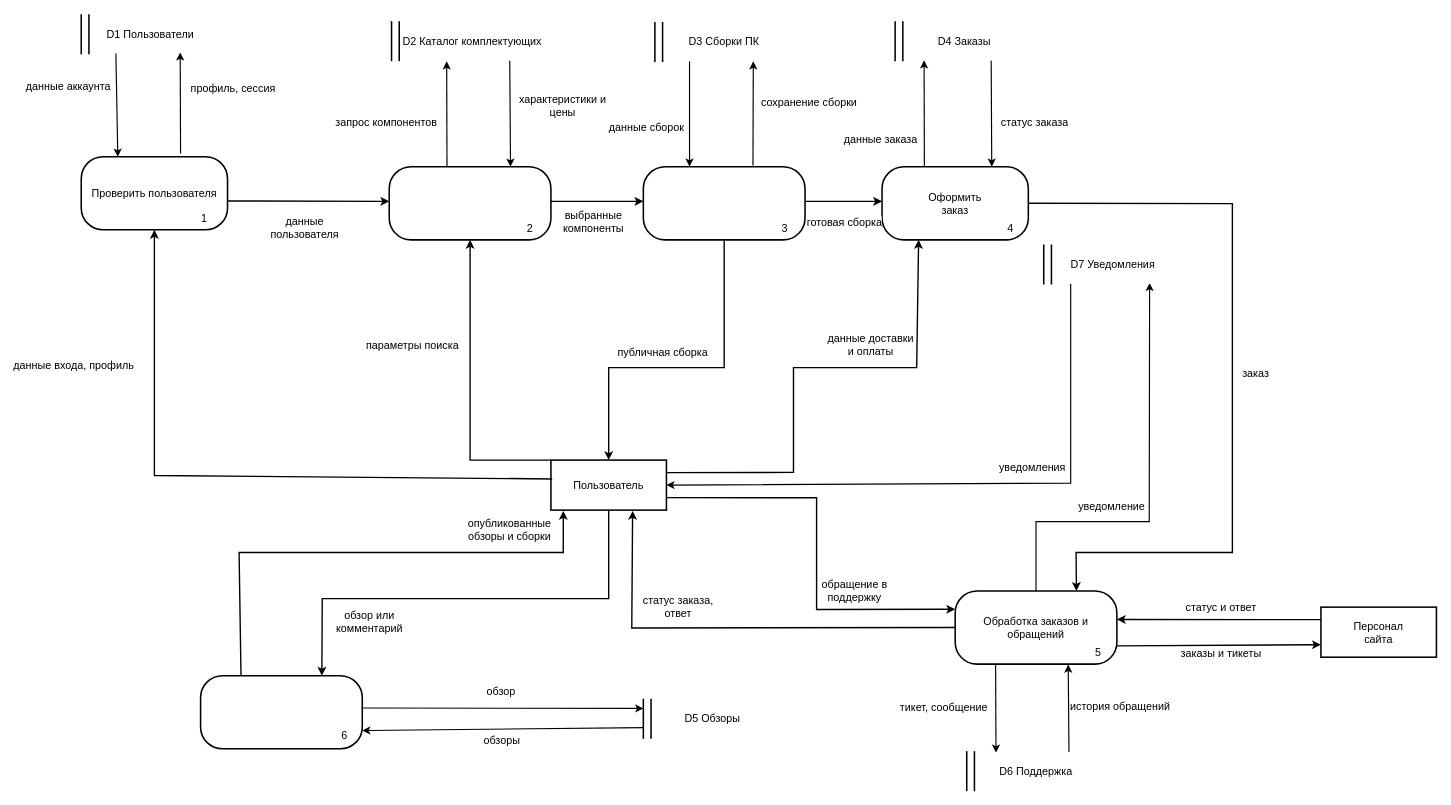
The diagram is 1451 pixels wide and 805 high, and some of its shapes have lost their labels. Here are the shapes that lost their labels. From the top down, the box of each, then its label:
(388, 166, 551, 240): Подобрать комплектующие
(642, 166, 805, 240): Сформировать сборку ПК
(199, 675, 363, 749): Публикация обзоров и сборок
